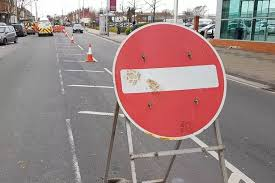No entry: (112, 22, 227, 142)
